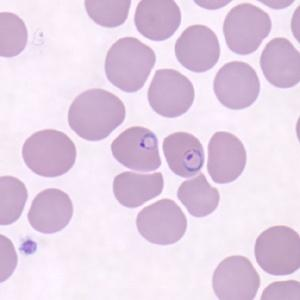Infected: (110, 126, 162, 173), (161, 130, 205, 179)
Uninfected: (103, 36, 156, 93), (68, 89, 124, 142), (22, 129, 75, 178), (212, 60, 261, 109), (136, 197, 187, 244), (148, 67, 194, 118), (224, 5, 272, 52), (255, 224, 300, 274), (27, 187, 73, 235), (212, 256, 262, 300), (208, 130, 247, 185), (259, 36, 299, 89), (175, 24, 219, 72), (178, 172, 219, 220), (135, 0, 182, 40), (114, 170, 163, 208), (82, 0, 132, 31), (0, 10, 28, 58), (0, 175, 27, 224)
